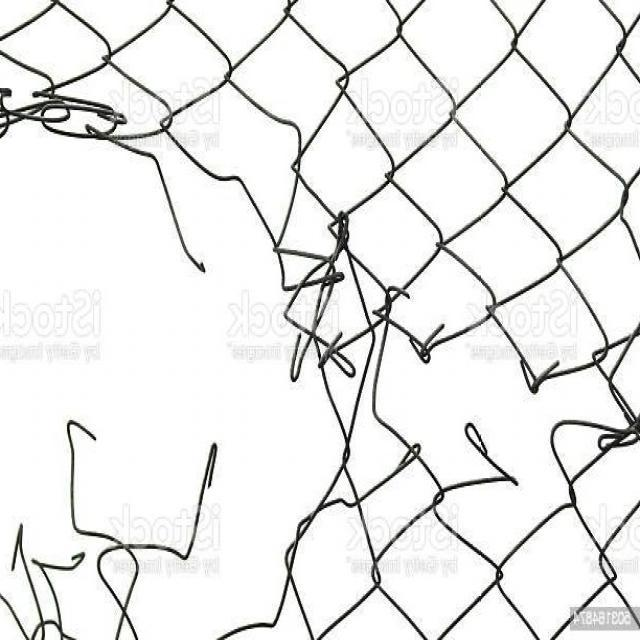fence line: (7, 112, 347, 618), (398, 328, 620, 491)
